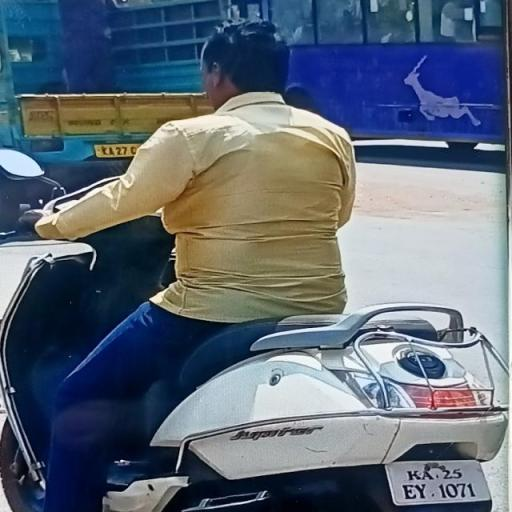bike: (0, 20, 503, 511)
numberplate: (384, 452, 490, 510)
withouthelmet: (207, 23, 287, 98)
